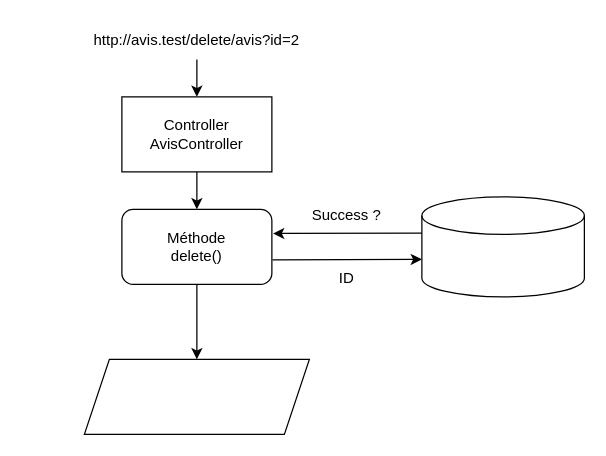
The diagram is 606 pixels wide and 456 high, and some of its shapes have lost their labels. Each missing label, with the centre of its shape:
"Redirige l'utilisateur vers une nouvelle route" belongs at (196,396).
"Repository AvisRepository" belongs at (502,246).
